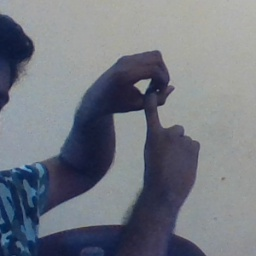Q: (87, 40, 208, 173)
